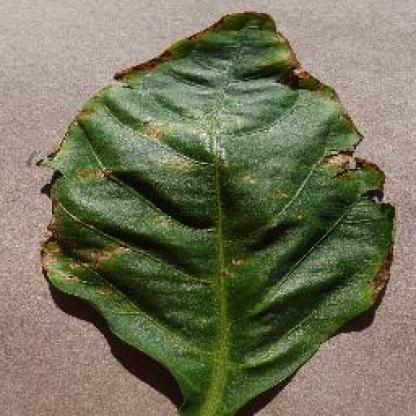bad leaf: (22, 11, 414, 414), (38, 207, 403, 365), (60, 35, 182, 362), (58, 99, 366, 214), (267, 34, 383, 330), (99, 8, 317, 106)
